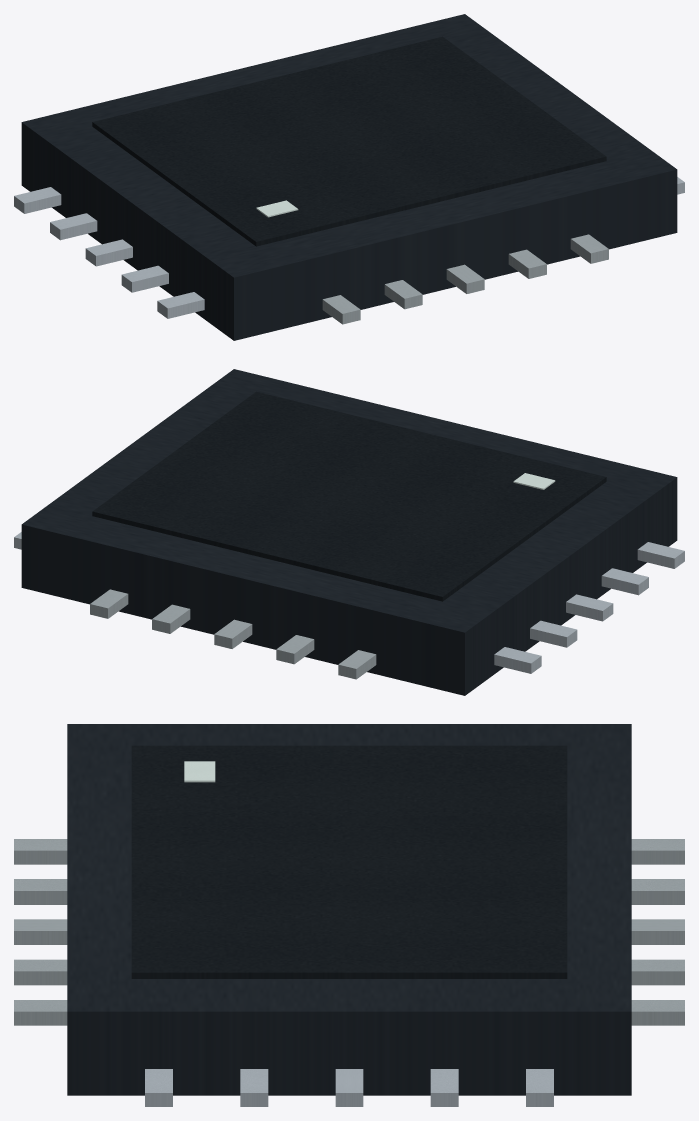
The picture shows the model from 3 angles, top to bottom: view 1: azimuth 30°, elevation 25°; view 2: azimuth 150°, elevation 25°; view 3: azimuth 270°, elevation 25°; orthographic projection. The views are drawn at different scales.
Visible parts, largest first — view 1: 001_L118_U1; view 2: 001_L118_U1; view 3: 001_L118_U1.
Part boxes in pixels (x1,y1,x2,y2): 001_L118_U1: [14, 14, 684, 340]; 001_L118_U1: [14, 369, 684, 695]; 001_L118_U1: [14, 724, 684, 1106].
Bounding box in the file's own units: 0.0257 × 0.00348 × 0.0217.
5 materials, 5 textured.
